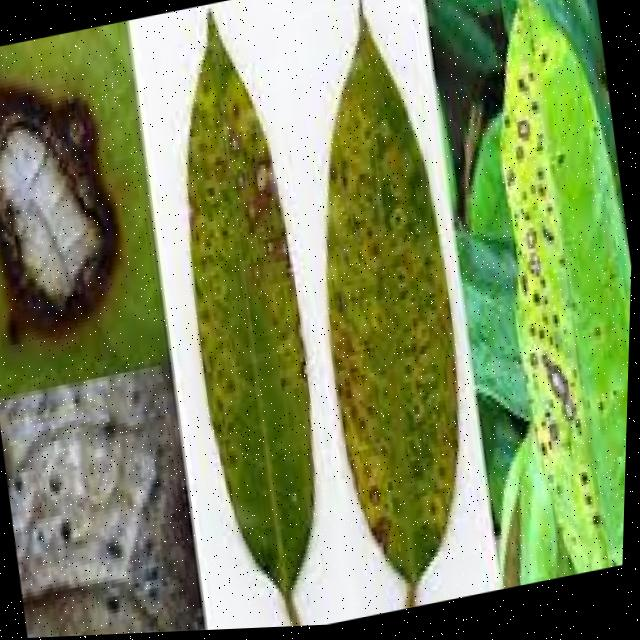Anthracnose: (137, 0, 360, 635), (462, 0, 640, 587), (316, 100, 469, 524)
